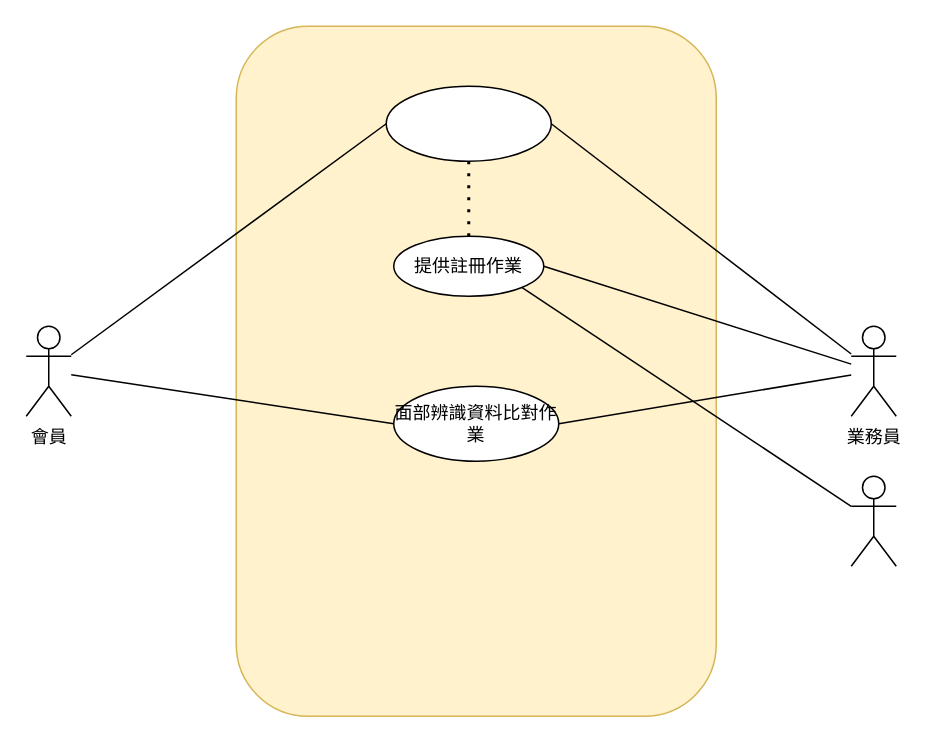
The diagram is 945 pixels wide and 743 high, and some of its shapes have lost their labels. The shapes that lost their labels are listed below. From the top down, each one's centre as x and y in pixels, then its label:
the point at 468,123: 系統註冊與修改作業
the point at 873,520: 系統管理員
